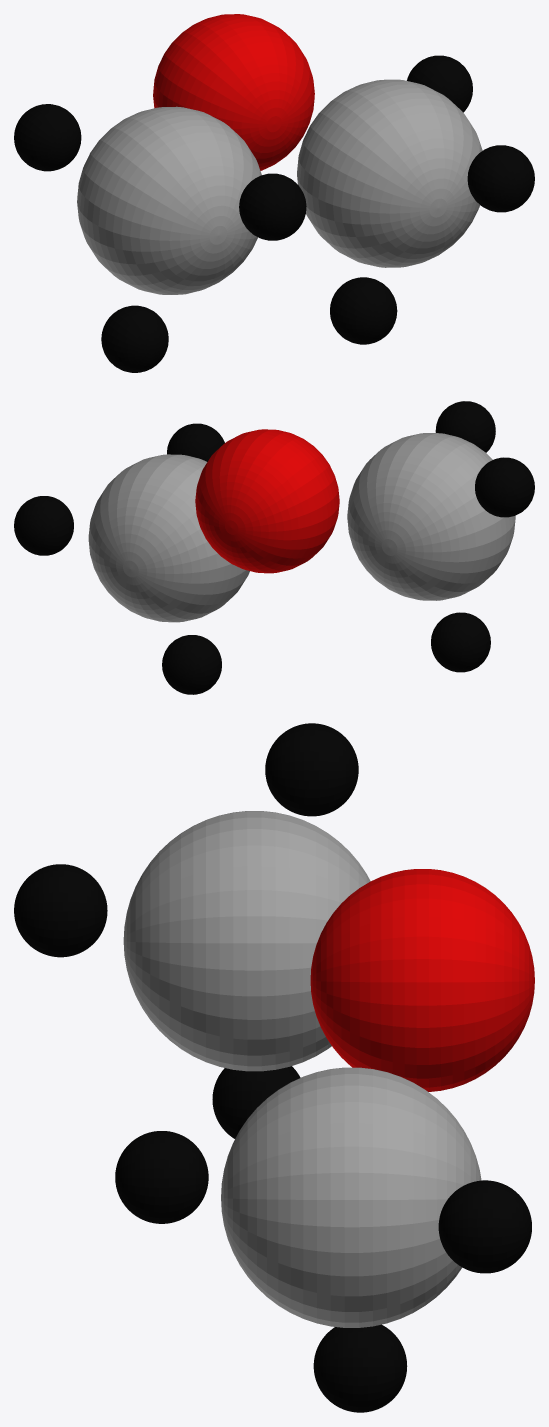
The model's file is Dimethyl Ether.glb.
3 views of the same model, one above another, from view 1: azimuth 30°, elevation 25°; view 2: azimuth 150°, elevation 25°; view 3: azimuth 270°, elevation 25° (orthographic). The views are drawn at different scales.
Parts seen in each view (by area): view 1: world; view 2: world; view 3: world.
Part boxes in pixels (bbox=[...]): world: bbox=[14, 14, 534, 372]; world: bbox=[14, 401, 534, 694]; world: bbox=[14, 723, 534, 1412].
Bounding box in the file's own units: 4.39 × 2.69 × 2.79.
